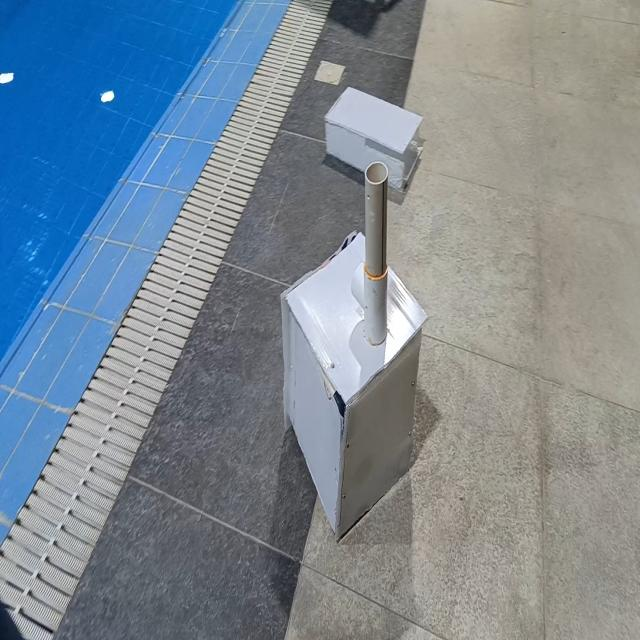Cube: (279, 229, 428, 542)
Cuboid: (323, 84, 424, 192)
